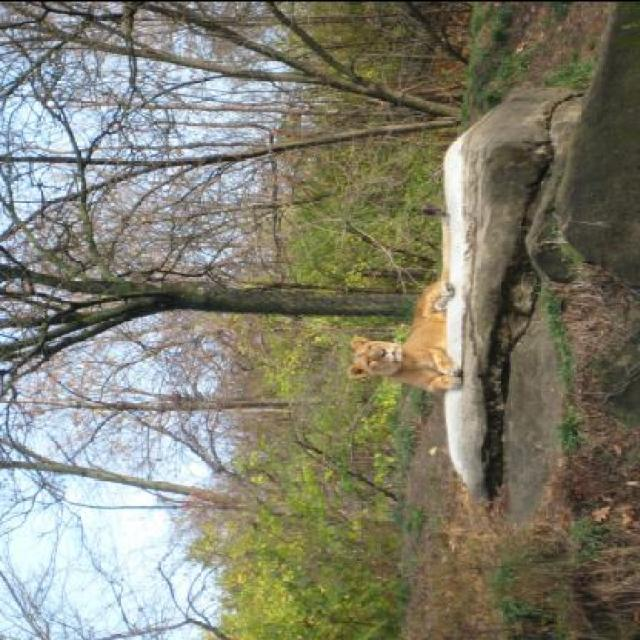Lion: (336, 208, 464, 406)
